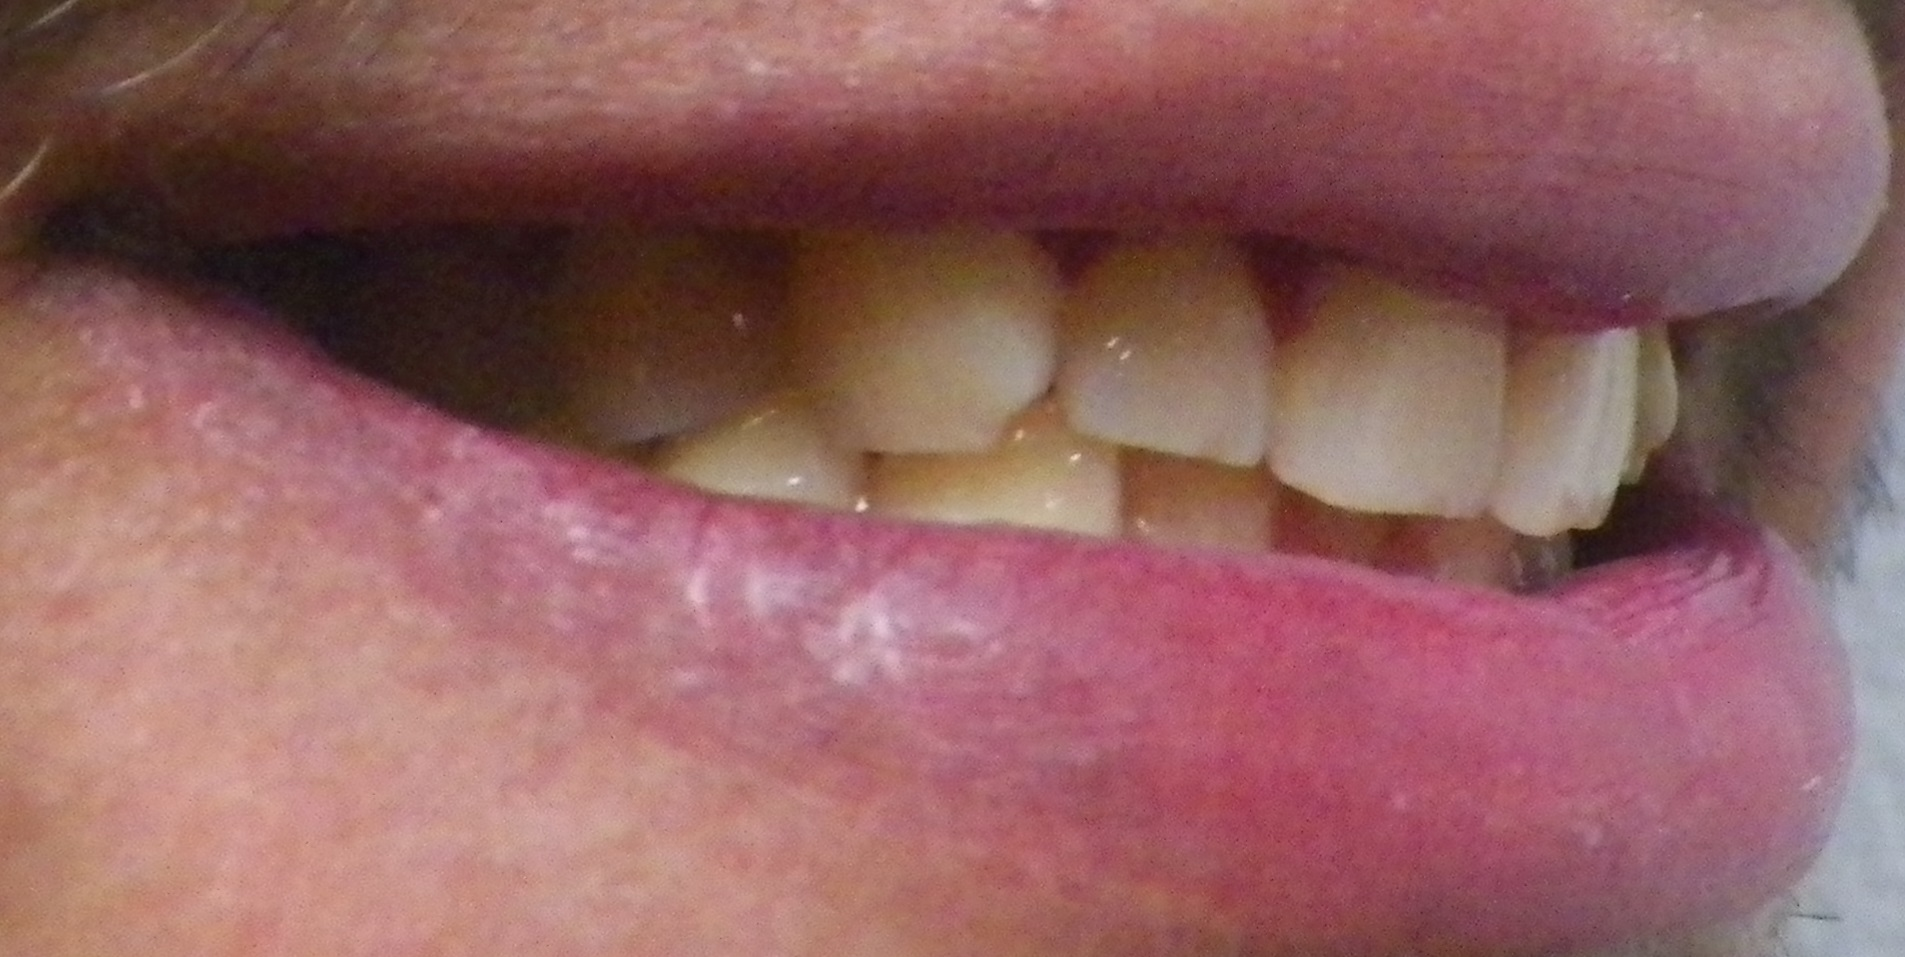boca: (315, 210, 1678, 591)
